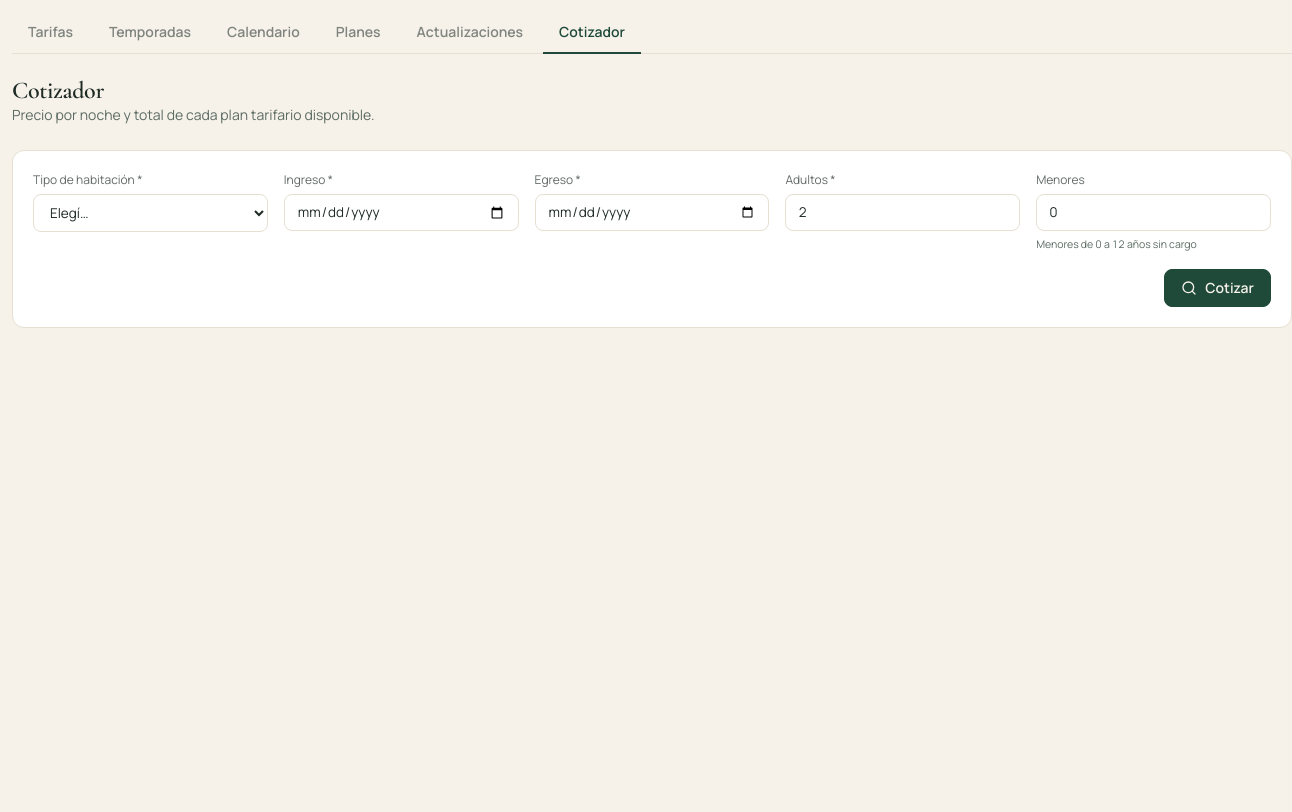
Test: CotizadorPage › cotiza y muestra los planes con su total y promedio por noche
Select "Doble" in the dropdown labelled "Tipo de habitación *" at x=150, y=213, box top-left (33, 194), bottom-right (268, 232)
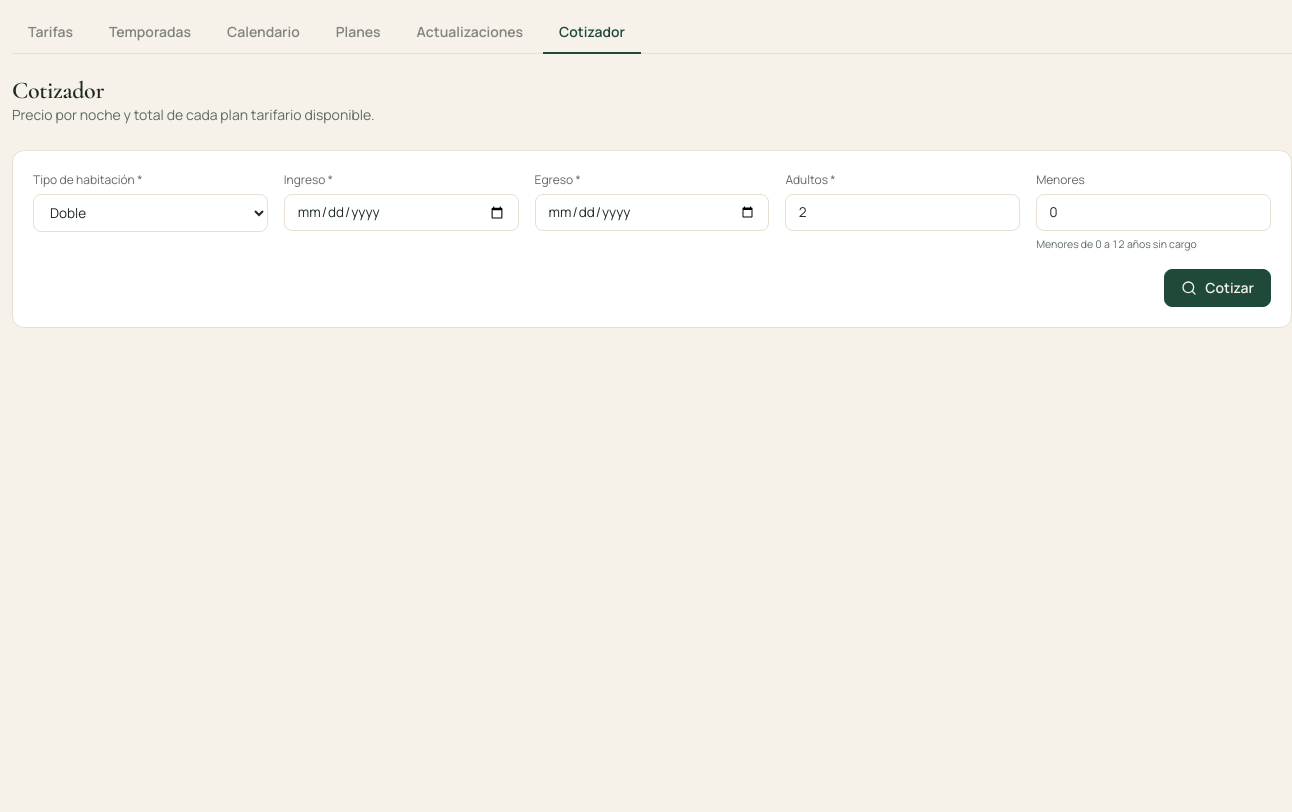
Type "2027-01-10" into the date field labelled "Ingreso *".
click(401, 212); type("2027-01-10")  # box top-left (284, 194), bottom-right (519, 231)
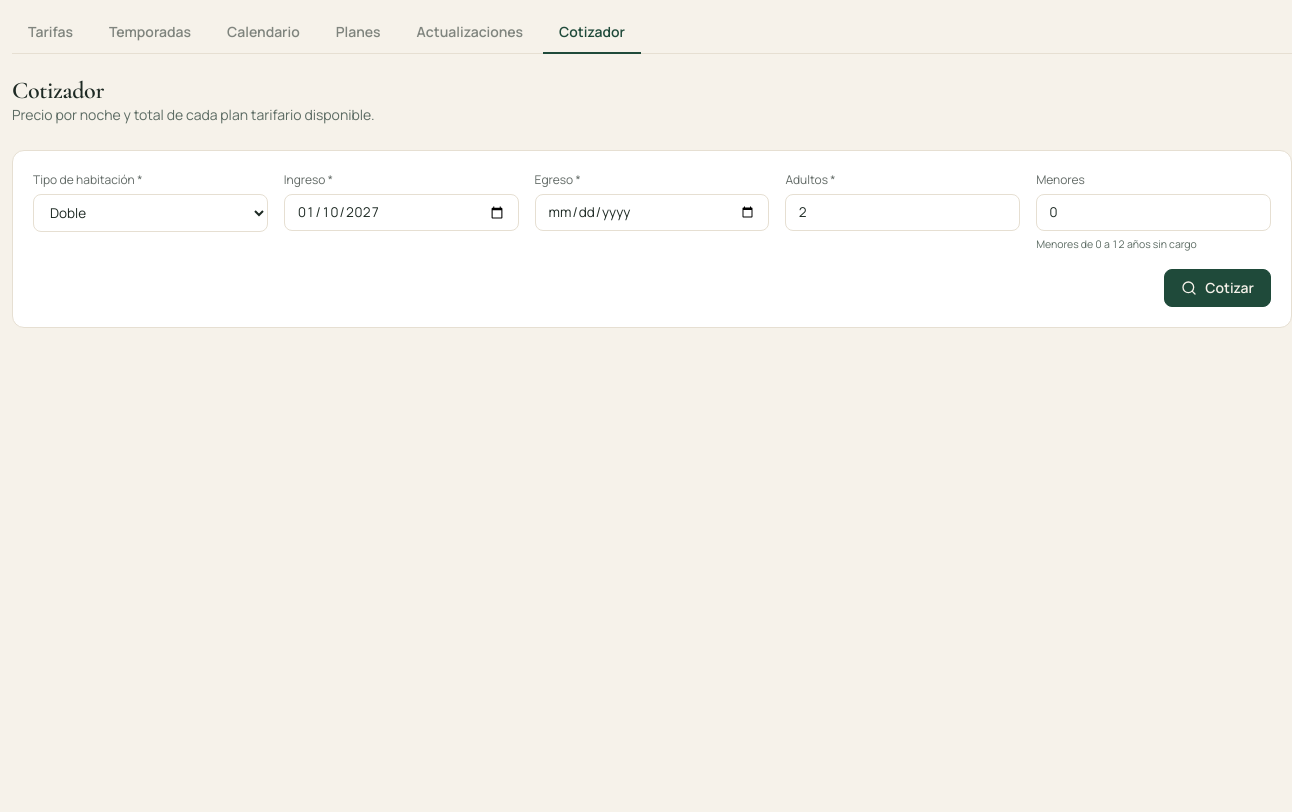
Type "2027-01-11" into the date field labelled "Egreso *".
click(652, 212); type("2027-01-11")  # box top-left (535, 194), bottom-right (769, 231)
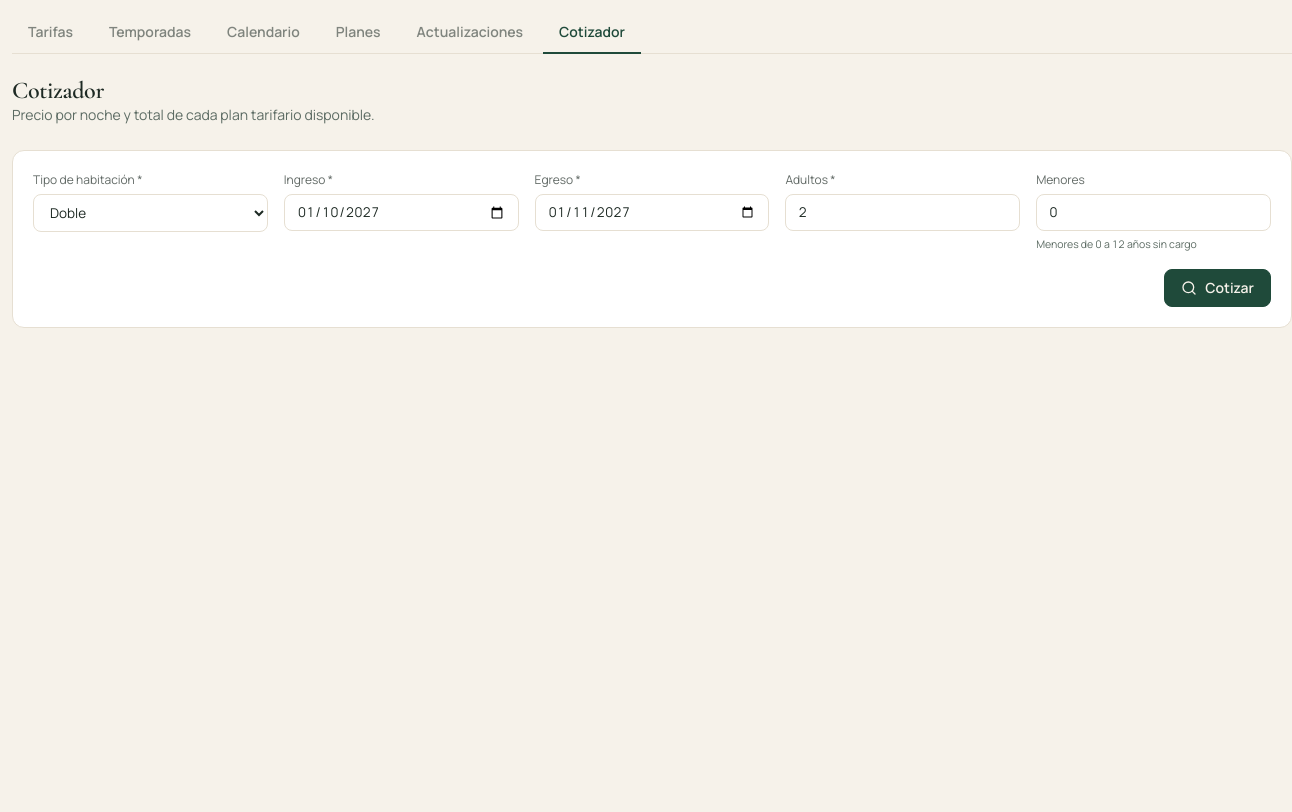
Click the button "Cotizar".
click(1218, 288)  # box top-left (1164, 269), bottom-right (1271, 307)
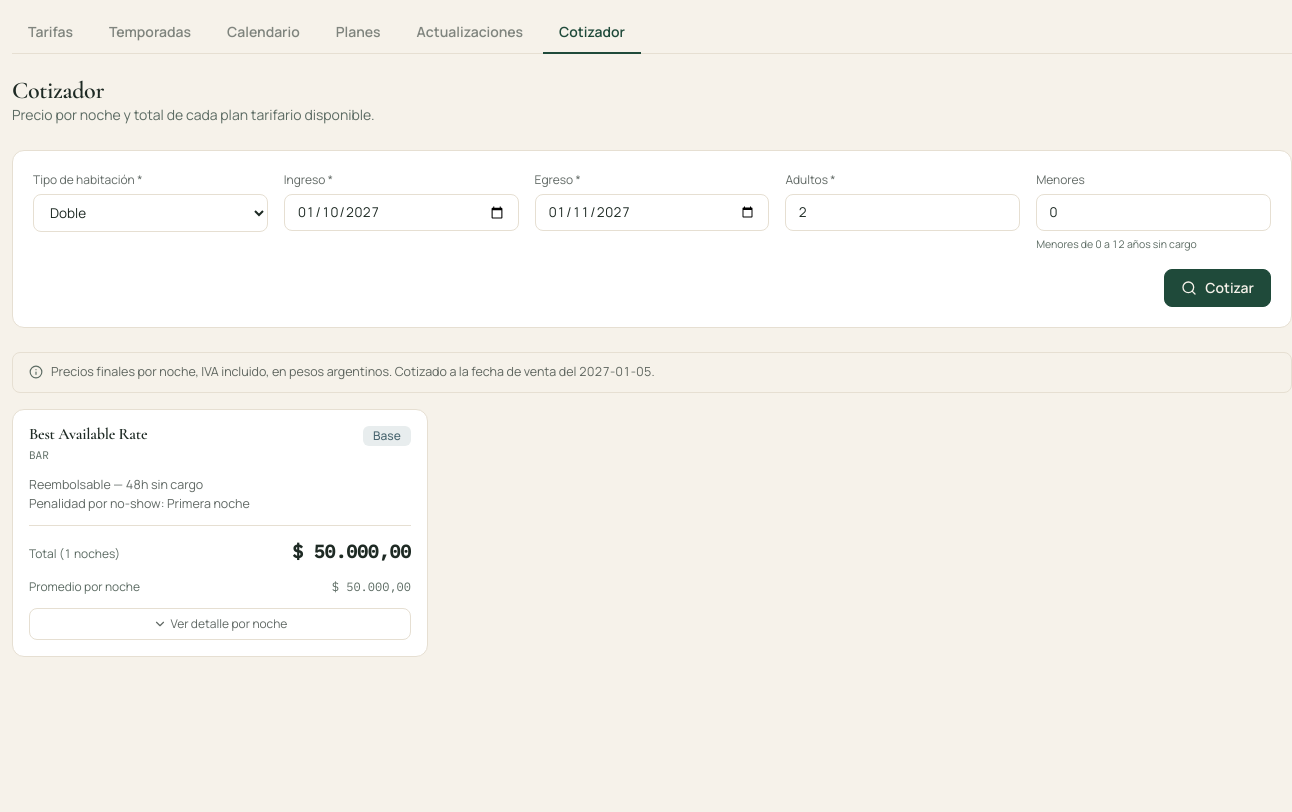
Check: the heading "Best Available Rate" is shown, box top-left (29, 426), bottom-right (147, 443)
Check: the text "$ 50.000,00" is shown 2 times, box top-left (292, 538), bottom-right (411, 566); top-left (332, 578), bottom-right (411, 596)
